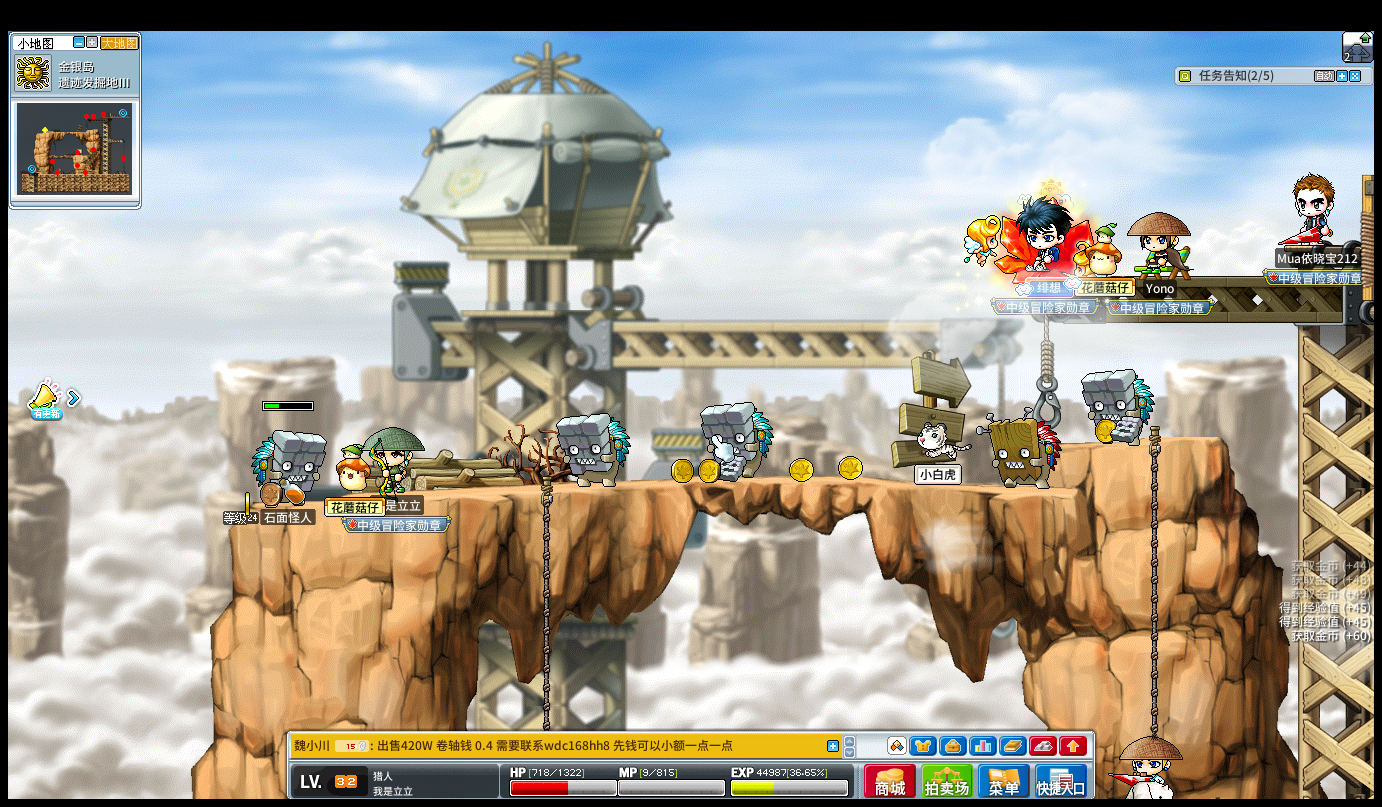floor: (250, 471, 1136, 499)
monster: (980, 408, 1062, 490), (699, 400, 774, 482), (1081, 367, 1156, 446), (557, 412, 630, 489), (252, 430, 326, 497)
rope: (1145, 423, 1161, 738), (539, 472, 552, 679), (1146, 631, 1159, 737), (1040, 314, 1053, 410)
